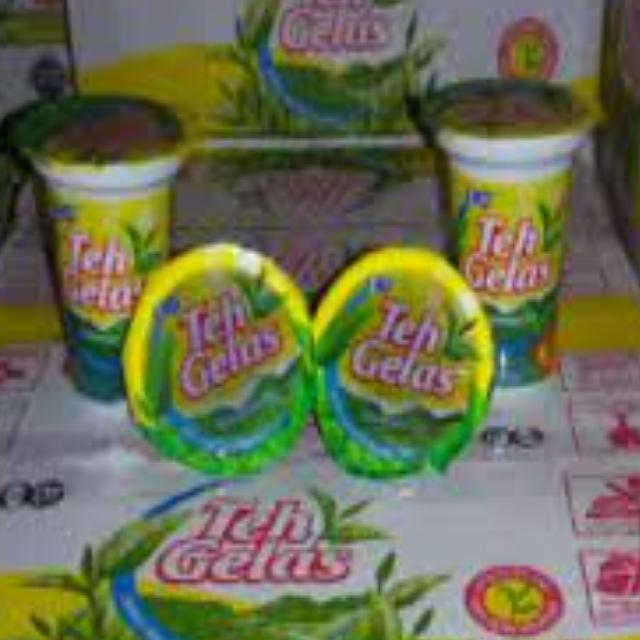GelasPlastik: (432, 75, 604, 388), (17, 81, 184, 402), (123, 230, 309, 467), (315, 234, 493, 472)
